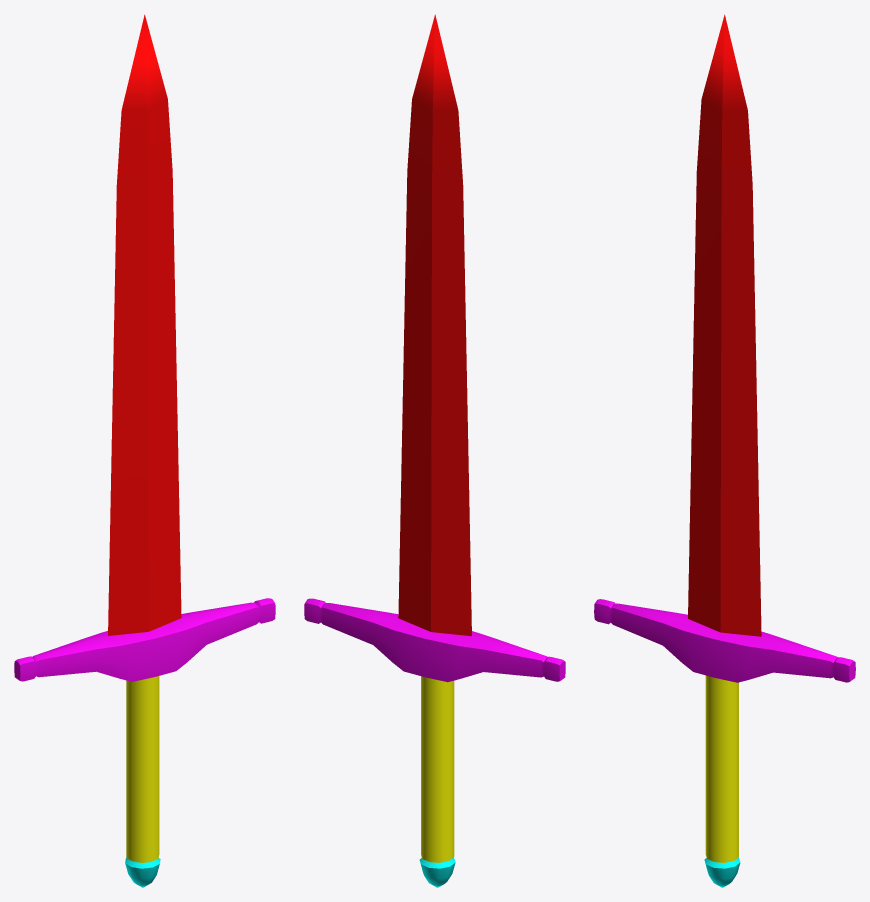
Rendered from MSH_Espada1_MID_Isaac.FBX.
The picture shows the model from 3 angles, left to right: view 1: azimuth 30°, elevation 25°; view 2: azimuth 150°, elevation 25°; view 3: azimuth 330°, elevation 25°; orthographic projection.
Parts seen in each view (by area): view 1: Espada_1; view 2: Espada_1; view 3: Espada_1.
Boxes of the visible parts, bbox=[...] form: Espada_1: bbox=[14, 14, 275, 887]; Espada_1: bbox=[304, 14, 565, 887]; Espada_1: bbox=[594, 14, 855, 887].
Size of the model in its own units: 38.64 by 126 by 5.68.
